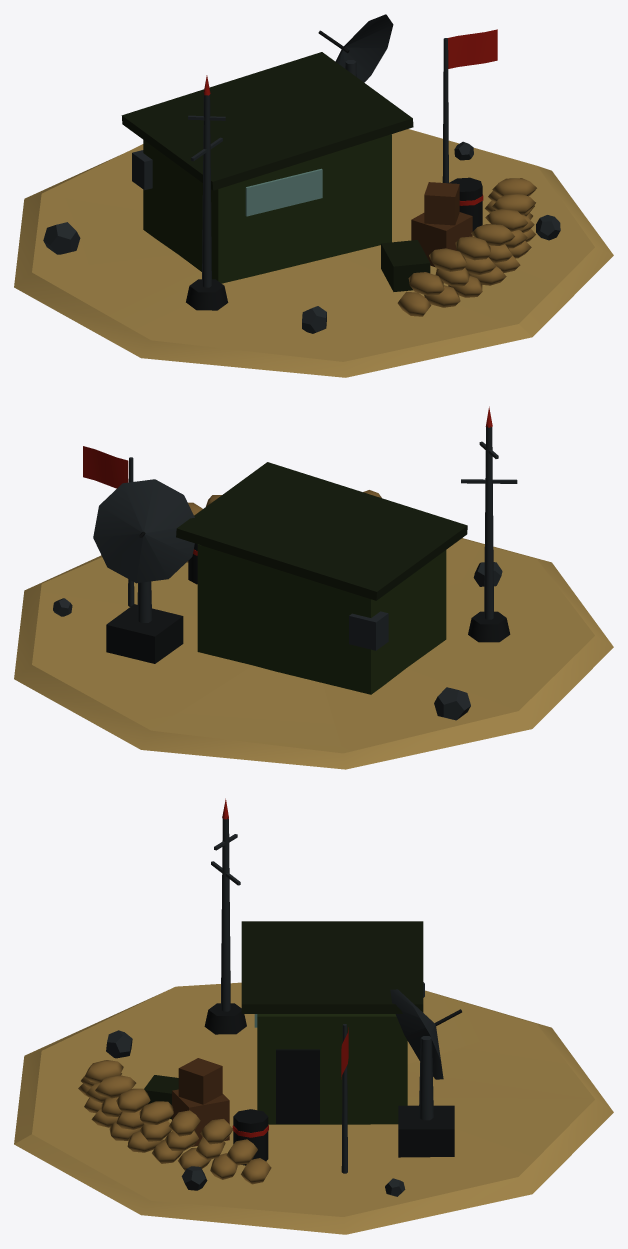
The model's file is command-post.obj.
The picture shows the model from 3 angles, top to bottom: view 1: azimuth 30°, elevation 25°; view 2: azimuth 150°, elevation 25°; view 3: azimuth 270°, elevation 25°; orthographic projection.
Visible parts, largest first — view 1: ground_pad, hut_body, hut_roof, hut_window, radar_dish, crate_side, antenna_mast, crate_big, flag, crate_small, antenna_footing, barrel (+13 smaller); view 2: ground_pad, hut_body, hut_roof, radar_dish, radar_base, antenna_mast, flag, hut_vent, antenna_footing, rock_1, radar_mast; view 3: ground_pad, hut_roof, hut_body, hut_door, radar_base, radar_dish, crate_small, antenna_mast, crate_big, barrel, radar_mast, antenna_footing (+8 smaller).
Part boxes in pixels (box(x1,y1,x2,y2)): ground_pad: box(14, 129, 613, 377); hut_body: box(143, 134, 391, 283); hut_roof: box(121, 52, 413, 190); hut_window: box(245, 168, 322, 216); radar_dish: box(335, 14, 393, 82); crate_side: box(381, 240, 430, 291); antenna_mast: box(202, 93, 211, 287); crate_big: box(411, 212, 472, 267); flag: box(447, 29, 497, 68); crate_small: box(424, 182, 459, 225); antenna_footing: box(186, 279, 228, 310); barrel: box(449, 177, 482, 231); ground_pad: box(14, 538, 613, 769); hut_body: box(197, 544, 446, 694); hut_roof: box(176, 462, 467, 600); radar_dish: box(93, 479, 194, 583); radar_base: box(106, 604, 183, 663); antenna_mast: box(484, 426, 493, 619); flag: box(83, 446, 128, 488); hut_vent: box(349, 611, 388, 650); antenna_footing: box(468, 611, 510, 642); rock_1: box(434, 687, 470, 720); radar_mast: box(137, 581, 152, 622); ground_pad: box(14, 982, 613, 1234); hut_roof: box(241, 921, 423, 1013); hut_body: box(257, 1014, 407, 1124); hut_door: box(276, 1049, 319, 1123); radar_base: box(398, 1105, 454, 1157); radar_dish: box(390, 989, 443, 1079); crate_small: box(178, 1058, 222, 1104); antenna_mast: box(221, 816, 230, 1011); crate_big: box(172, 1089, 229, 1146); barrel: box(233, 1109, 268, 1165); radar_mast: box(419, 1036, 433, 1120); antenna_footing: box(204, 1003, 246, 1034).
Size of the model in its own units: 9.64 by 4.21 by 9.58.
